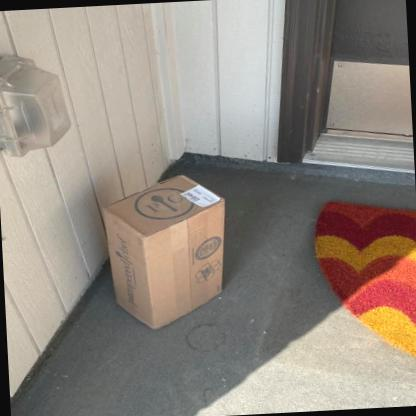box: (101, 172, 228, 331)
